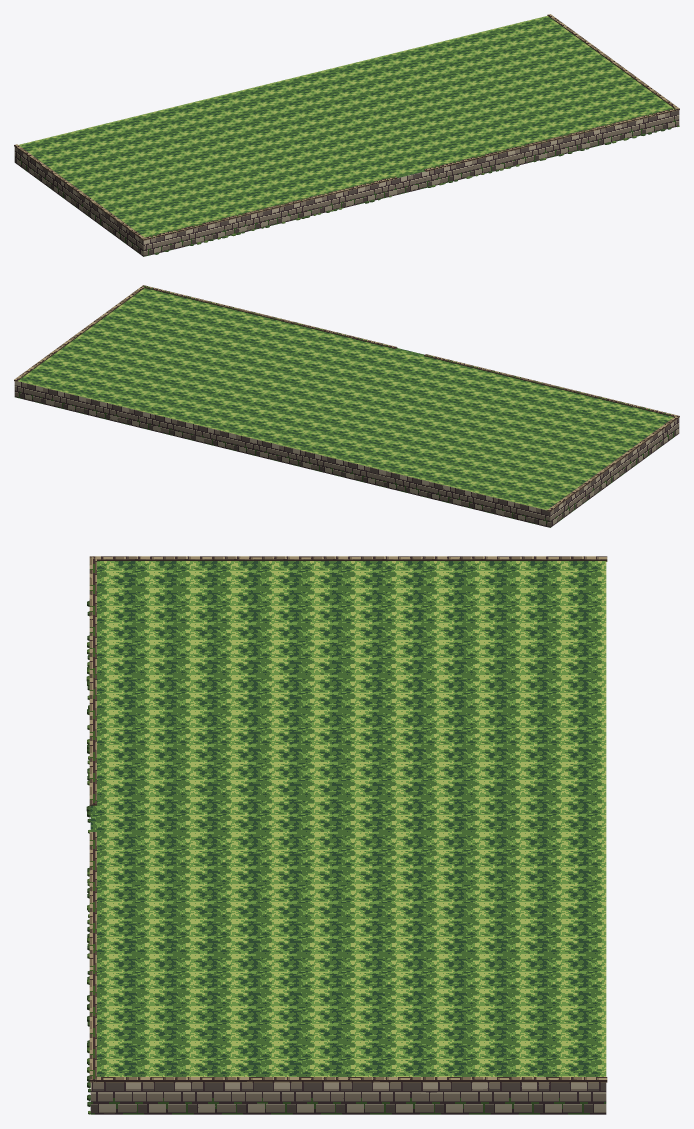
The model's file is scene_lumenvale.glb.
The picture shows the model from 3 angles, top to bottom: view 1: azimuth 30°, elevation 25°; view 2: azimuth 150°, elevation 25°; view 3: azimuth 270°, elevation 25°; orthographic projection. The views are drawn at different scales.
Visible parts, largest first — view 1: scene_lumenvale; view 2: scene_lumenvale; view 3: scene_lumenvale.
Boxes of the visible parts, x1,y1,x2,y2 form: scene_lumenvale: (14, 14, 679, 256); scene_lumenvale: (14, 285, 679, 527); scene_lumenvale: (86, 556, 607, 1114).
Size of the model in its own units: 60.1 by 1.97 by 25.24.
Materials: 3 (2 with a texture image).
